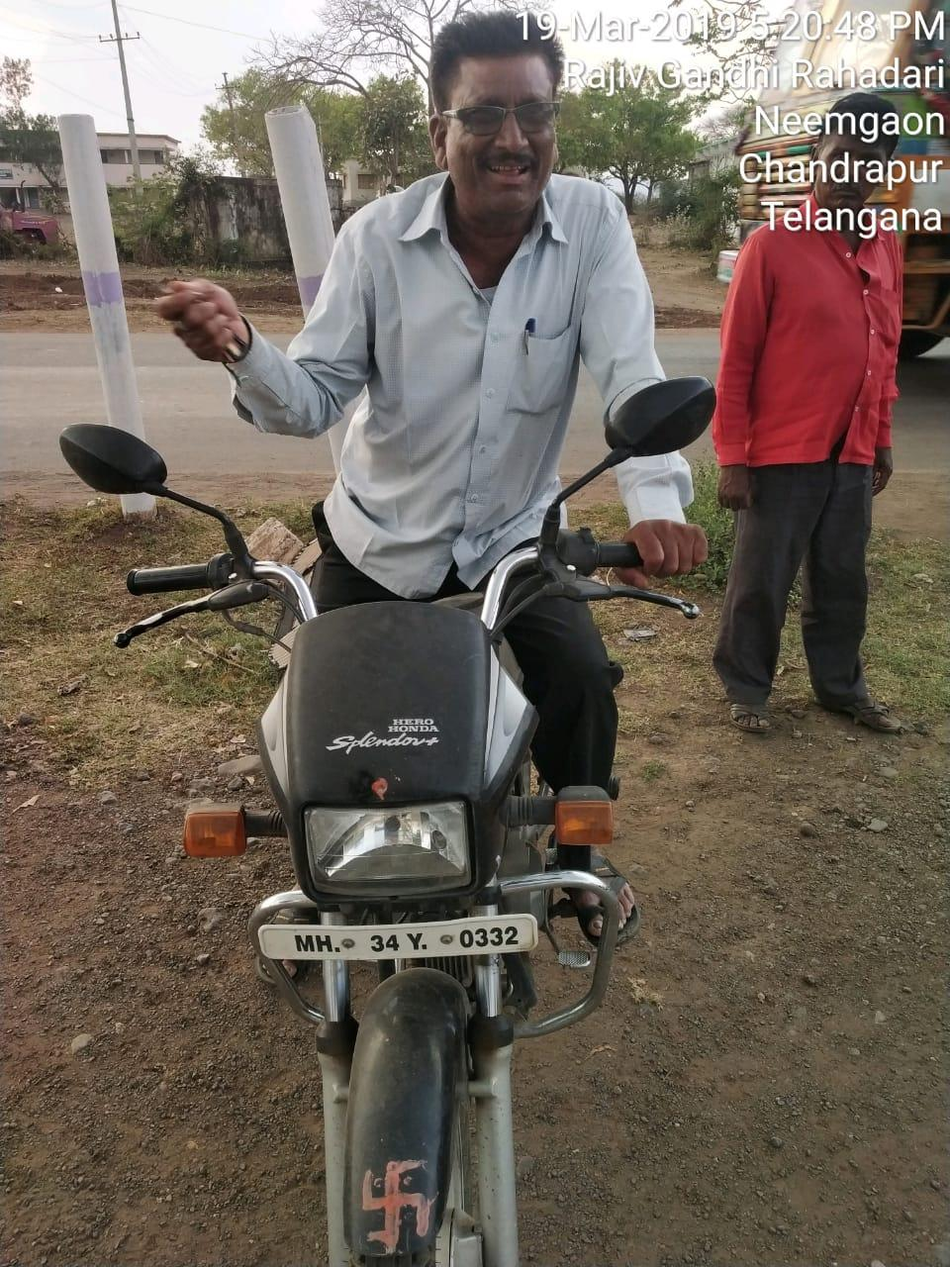plate: (243, 905, 553, 970)
